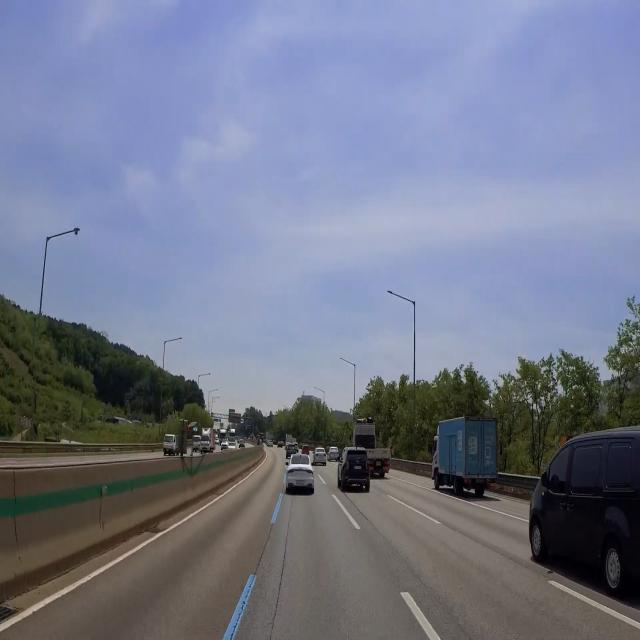car: (294, 477, 306, 488), (475, 476, 486, 487), (375, 457, 383, 472), (353, 462, 362, 474)
